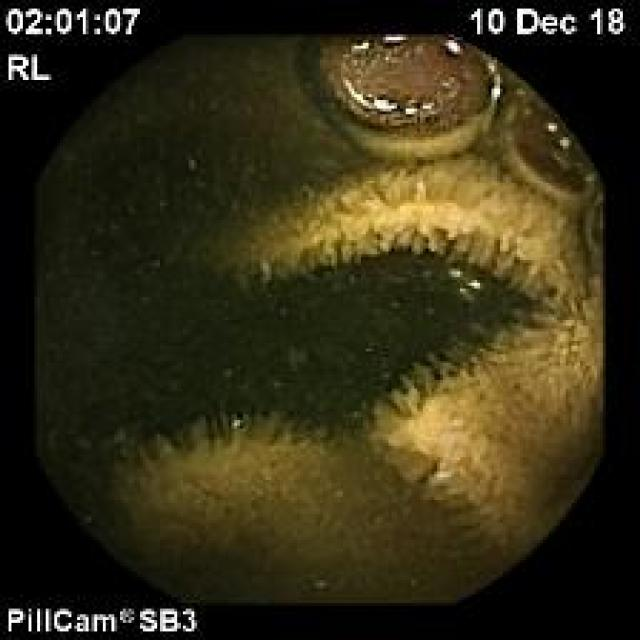color misalignment: (3, 604, 202, 638), (468, 3, 629, 37), (3, 3, 142, 39), (3, 49, 54, 89)
contrast: (36, 249, 517, 473), (37, 46, 336, 279), (92, 507, 274, 602)
specularity: (344, 80, 401, 113), (401, 99, 434, 116), (443, 37, 468, 59), (556, 130, 573, 149), (466, 277, 486, 291), (541, 119, 560, 133), (349, 40, 370, 51), (490, 86, 503, 102), (383, 36, 406, 44)
